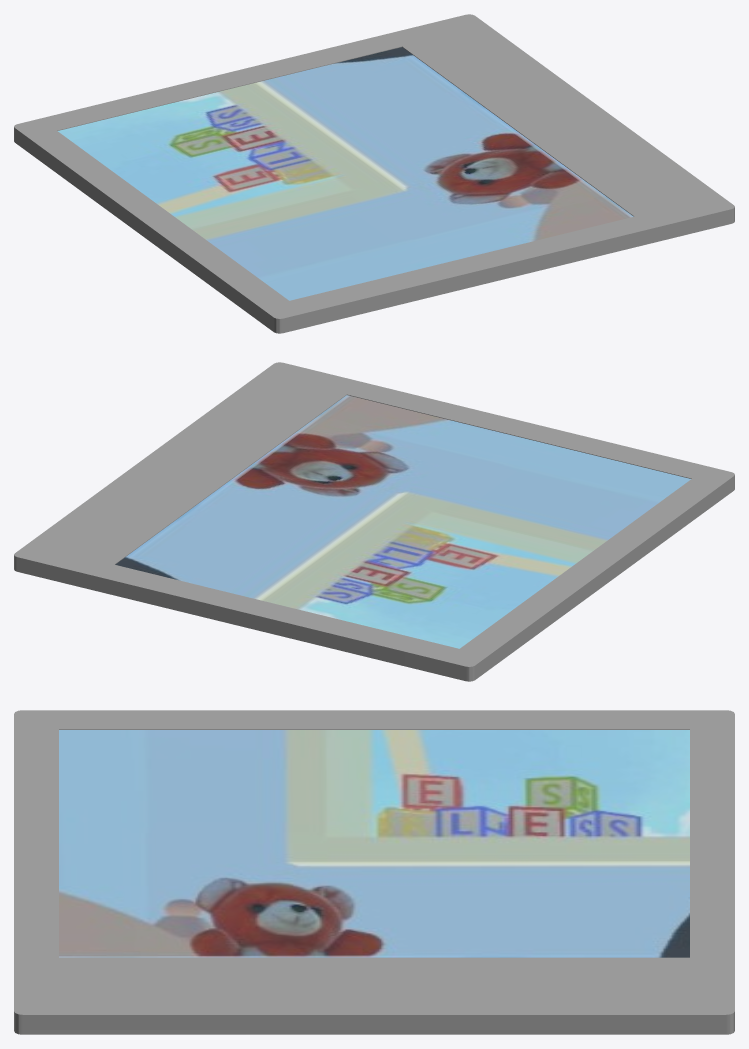
File: ending_photo7.fbx
The picture shows the model from 3 angles, top to bottom: view 1: azimuth 30°, elevation 25°; view 2: azimuth 150°, elevation 25°; view 3: azimuth 270°, elevation 25°; orthographic projection. The views are drawn at different scales.
Visible parts, largest first — view 1: pCube4; view 2: pCube4; view 3: pCube4.
Part boxes in pixels (box(x1,y1,x2,y2)): pCube4: box(14, 14, 734, 333); pCube4: box(14, 362, 734, 681); pCube4: box(14, 710, 734, 1034).
Bounding box in the file's own units: 8 × 0.2442 × 8.
Materials: 2 (1 with a texture image).
